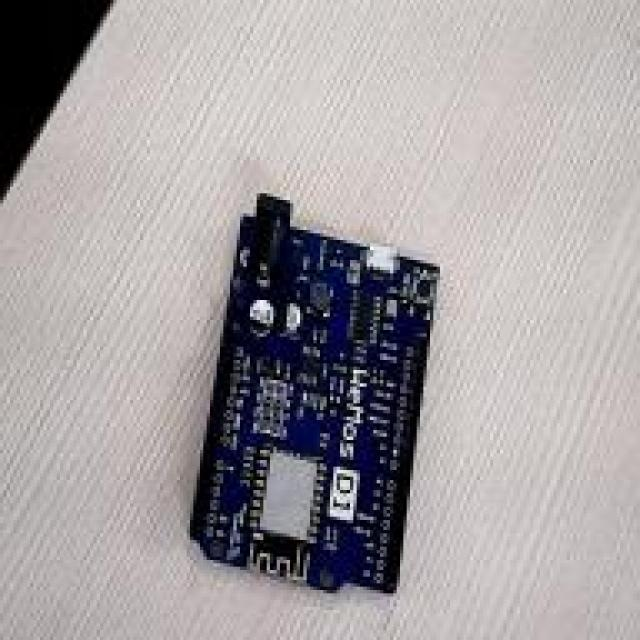Wemos: (191, 194, 438, 591)
